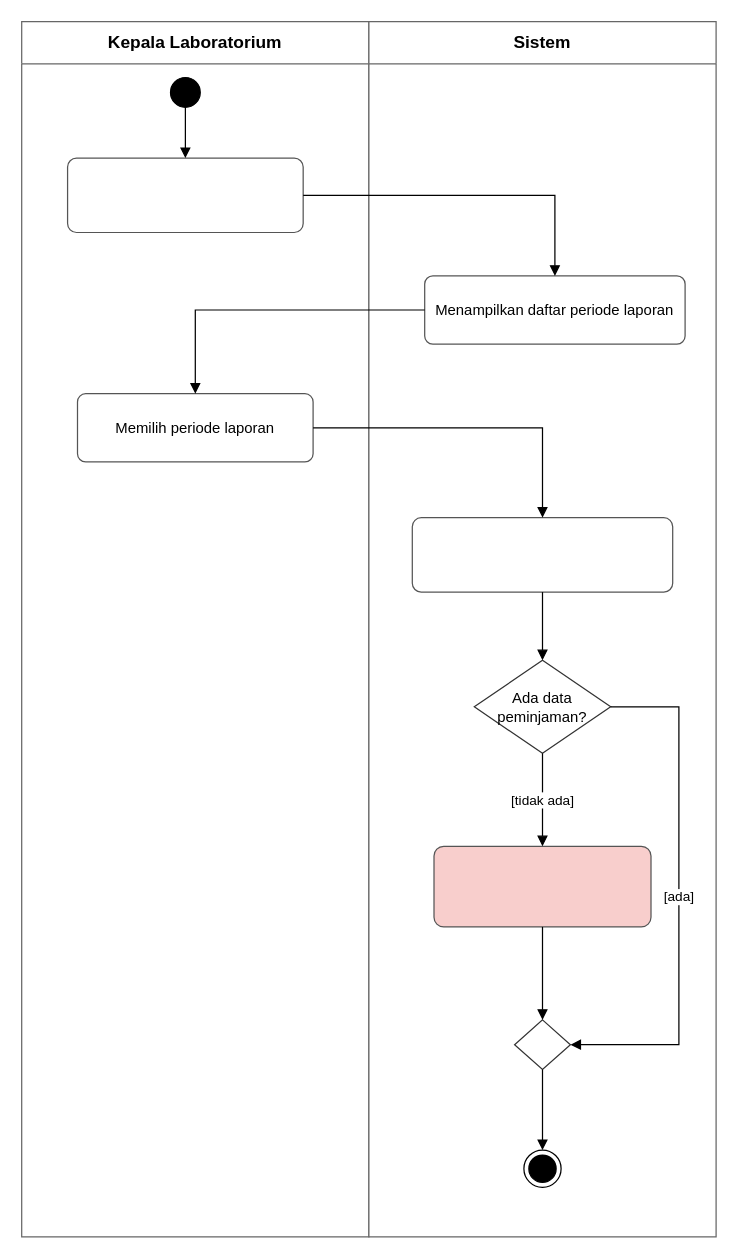
This 738x1259 diagram has some shape labels left out. Here are the shapes that lost their labels. From the top down, the centre of each, then its label:
At [184,194]: "Membuka fungsi Lihat Laporan Peminjaman".
At [542,554]: "Menampilkan laporan peminjaman periode tersebut".
At [542,886]: "Menampilkan pesan tidak ada data peminjaman pada periode tersebut".
